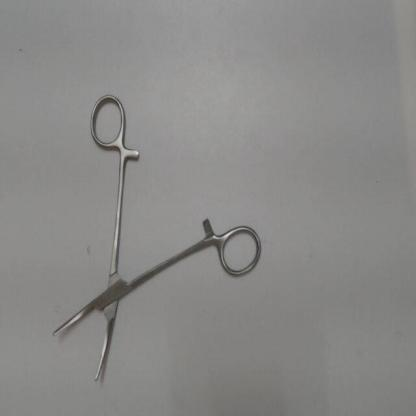Crile Artery Forceps: (44, 88, 270, 389)
